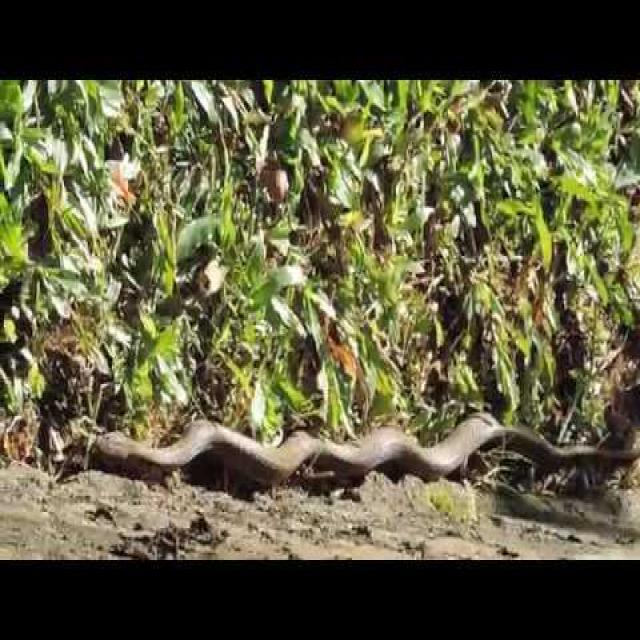Snake: (84, 416, 640, 489)
